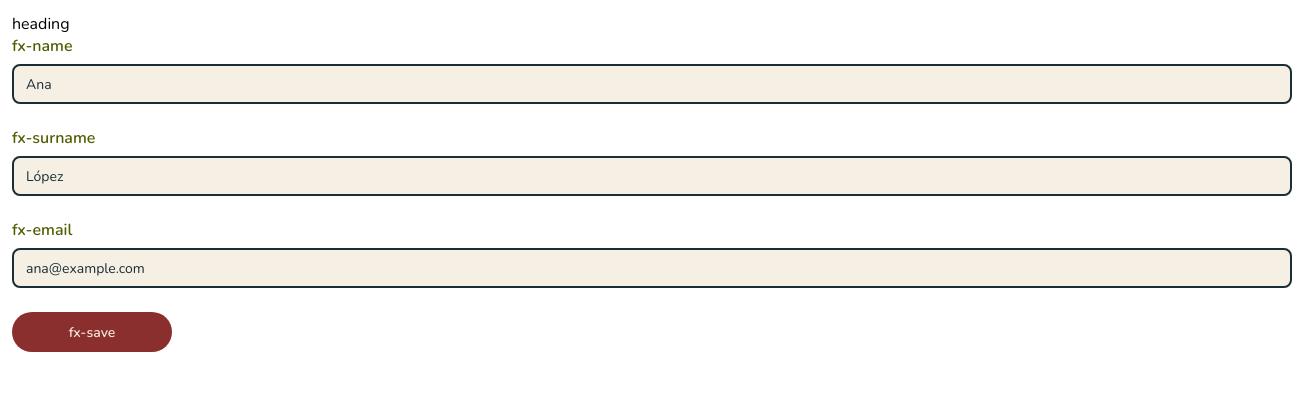
Test: ProfileForm — client checks › an invalid email shows emailFormatError, is invalid, takes focus and nothing is sent
The image size is (1304, 394).
Step 1. Replace the text in the field labelled "fx-email" with "not-an-email" → [652, 268], box left=12, top=248, right=1292, bottom=288
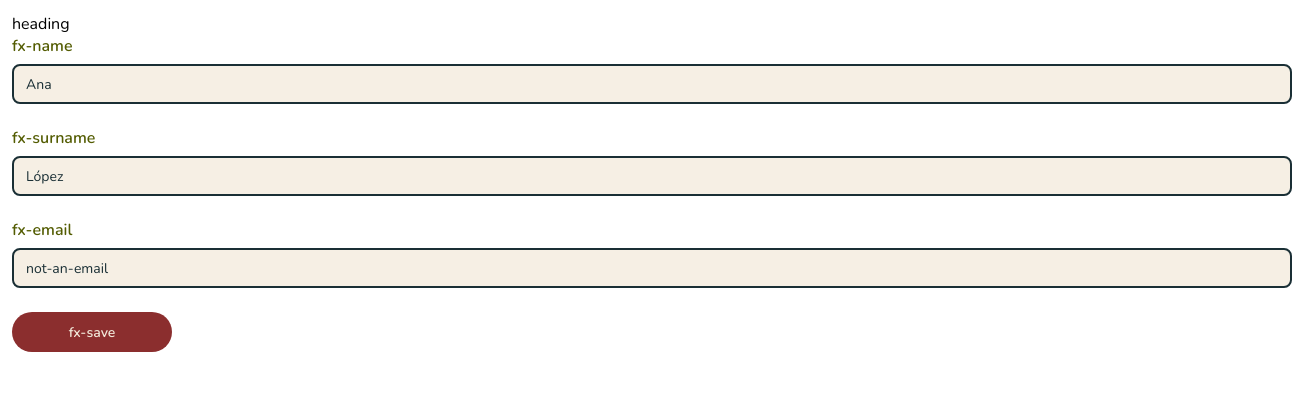
Step 2. Click the button "fx-save" → [92, 332], box left=12, top=312, right=172, bottom=352
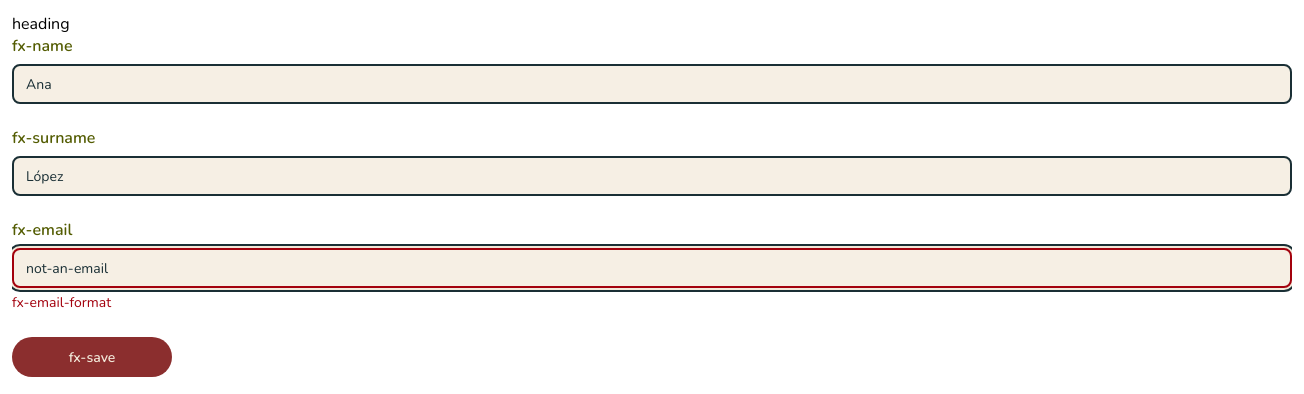
Expected: the text "fx-email-format" is shown, left=12, top=293, right=111, bottom=312
